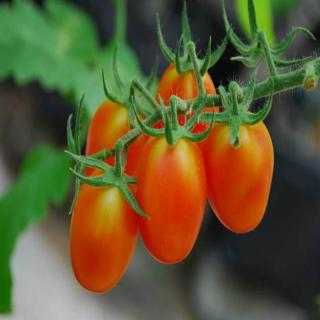Tomat: (69, 99, 150, 295), (136, 97, 209, 266), (196, 80, 275, 235), (85, 97, 152, 218), (155, 61, 220, 140), (85, 98, 134, 178)
